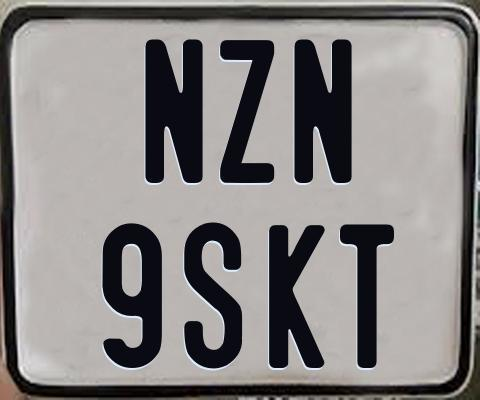9: (100, 220, 161, 369)
K: (268, 223, 328, 371)
N: (145, 36, 208, 180), (292, 38, 350, 187)
S: (184, 222, 243, 372)
T: (339, 221, 397, 369)
Z: (217, 39, 277, 186)
